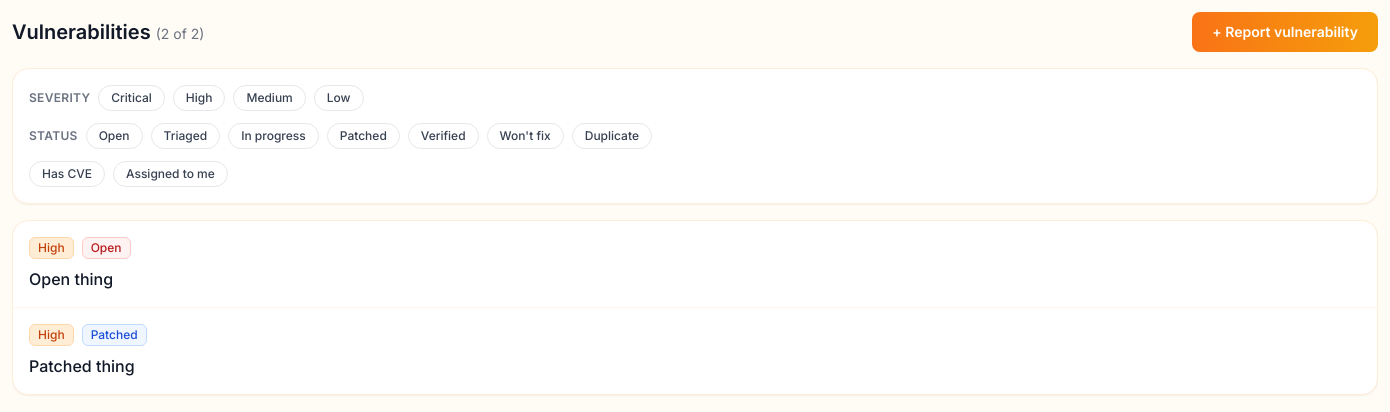
Scenario: VulnerabilitiesList › filters by status
Step 1. Click the button "Open" → [114, 136], box [86, 123, 142, 149]
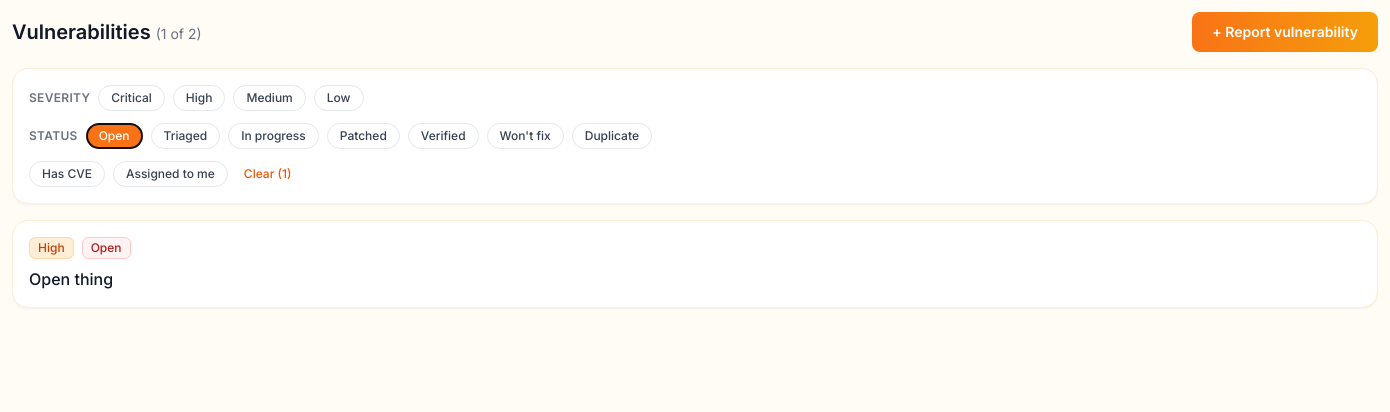
Check: the text "Open thing" is shown, box [29, 269, 113, 289]
Check: the link "Patched thing" is gone
